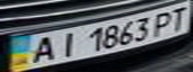1: (81, 25, 106, 52)
3: (130, 15, 157, 43)
6: (118, 17, 139, 46)
8: (103, 21, 124, 50)
A: (24, 34, 60, 64)
I: (51, 29, 81, 58)
P: (148, 8, 178, 36)
T: (166, 3, 193, 30)
